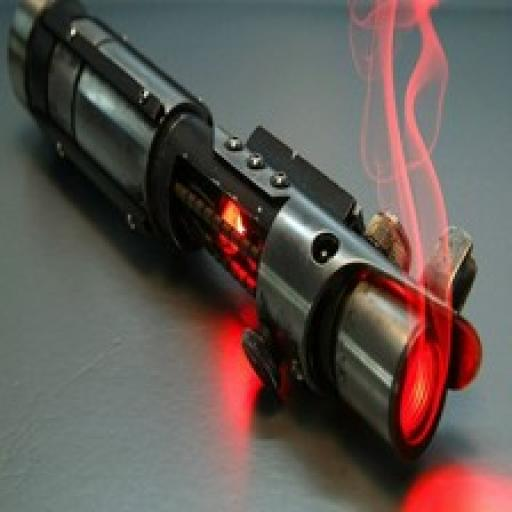lightsaber: (9, 0, 487, 474)
